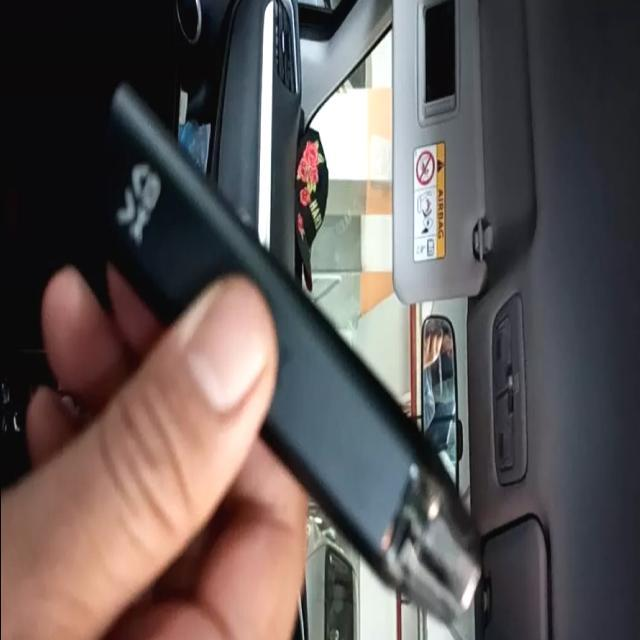Hazard: (78, 89, 484, 632)
